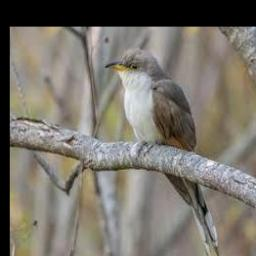Cuckoo: (104, 49, 221, 256)
